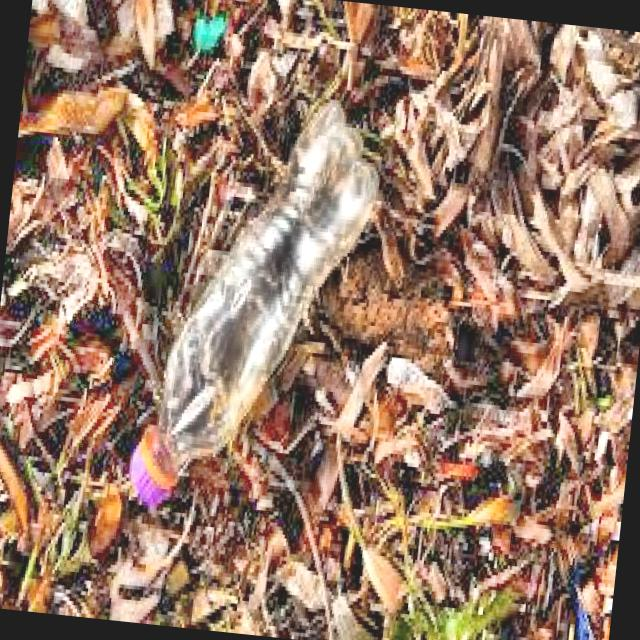plastic bottle: (130, 100, 378, 508)
